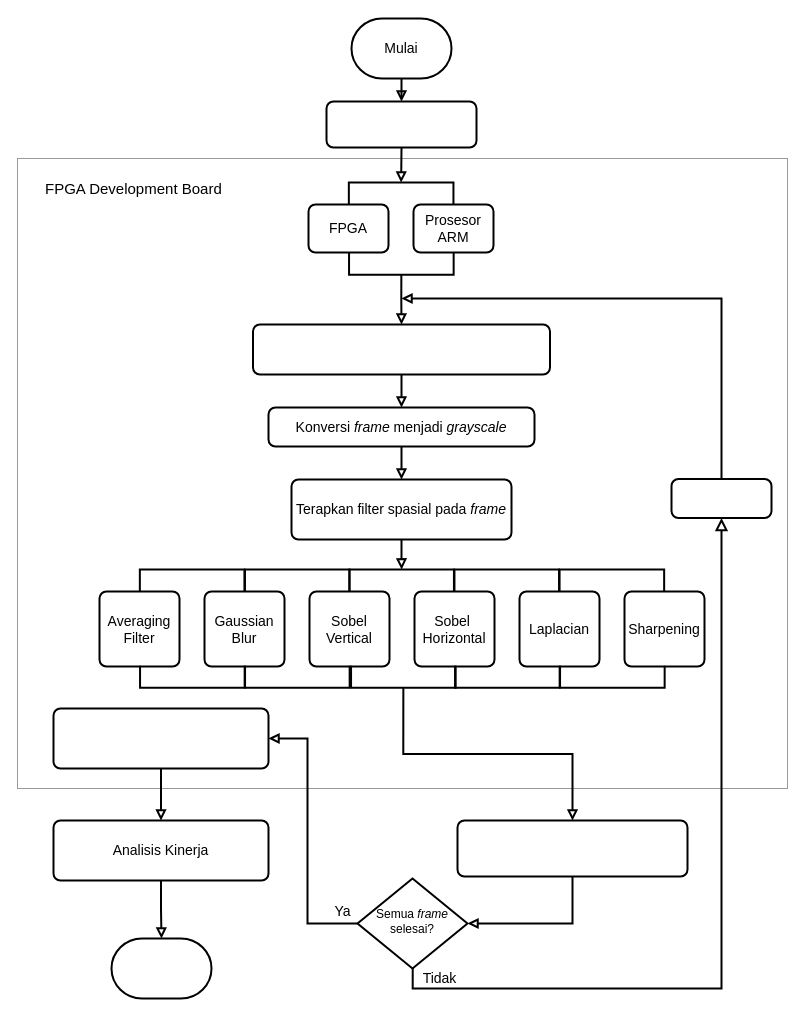
This 805x1016 diagram has some shape labels left out. The shapes that lost their labels are listed below. From the top down, each one's centre as x and y in pixels, then its label:
the point at 401,124: Video stream
the point at 401,349: Representasi video stream ke dalam bentuk citra digital ( frame )
the point at 721,498: Frame selanjutnya
the point at 160,738: Catat hasil percobaan
the point at 572,848: Tampilkan hasil filter
the point at 161,968: Kesimpulan
